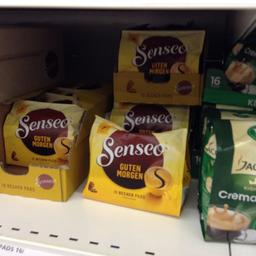coffee: (82, 113, 190, 216), (196, 114, 254, 244), (2, 97, 82, 166), (116, 26, 204, 84)
